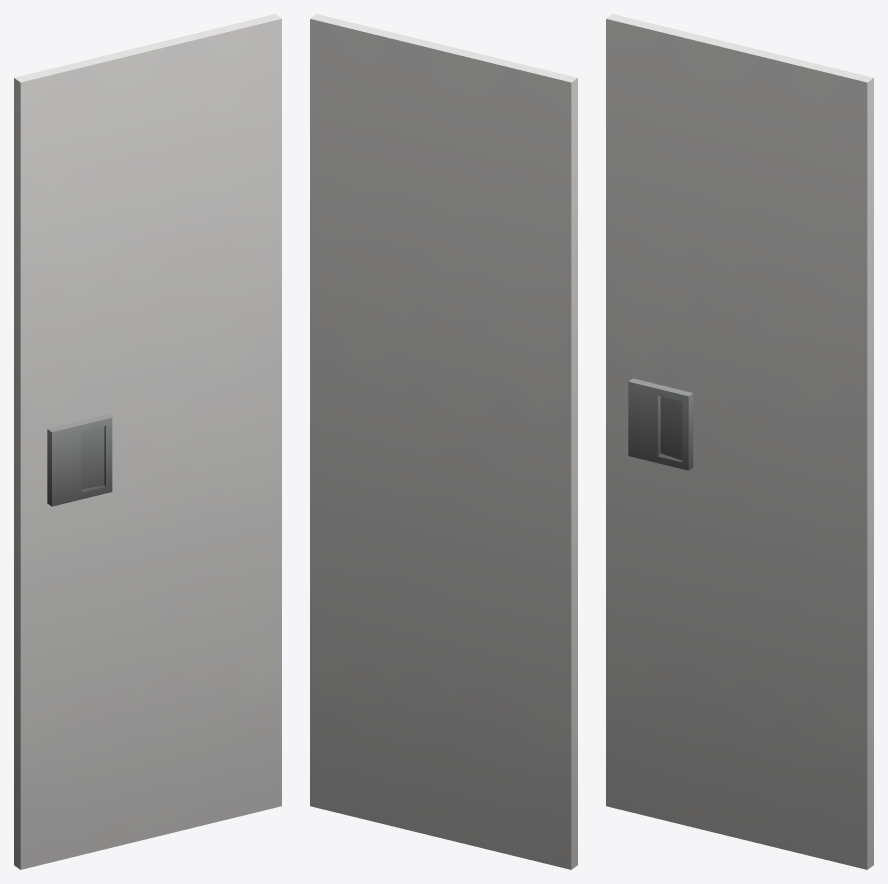
The model's file is Cupboard_Filing_Door_R.fbx.
3 renders of one model, left to right at view 1: azimuth 30°, elevation 25°; view 2: azimuth 150°, elevation 25°; view 3: azimuth 330°, elevation 25°, orthographic.
Visible parts, largest first — view 1: Cupboard_Filing_Door_R; view 2: Cupboard_Filing_Door_R; view 3: Cupboard_Filing_Door_R.
Part boxes in pixels (box(x1,y1,x2,y2)): Cupboard_Filing_Door_R: box(14, 14, 281, 869); Cupboard_Filing_Door_R: box(310, 14, 577, 869); Cupboard_Filing_Door_R: box(606, 14, 873, 869).
Size of the model in its own units: 56.5 by 163 by 4.13.
